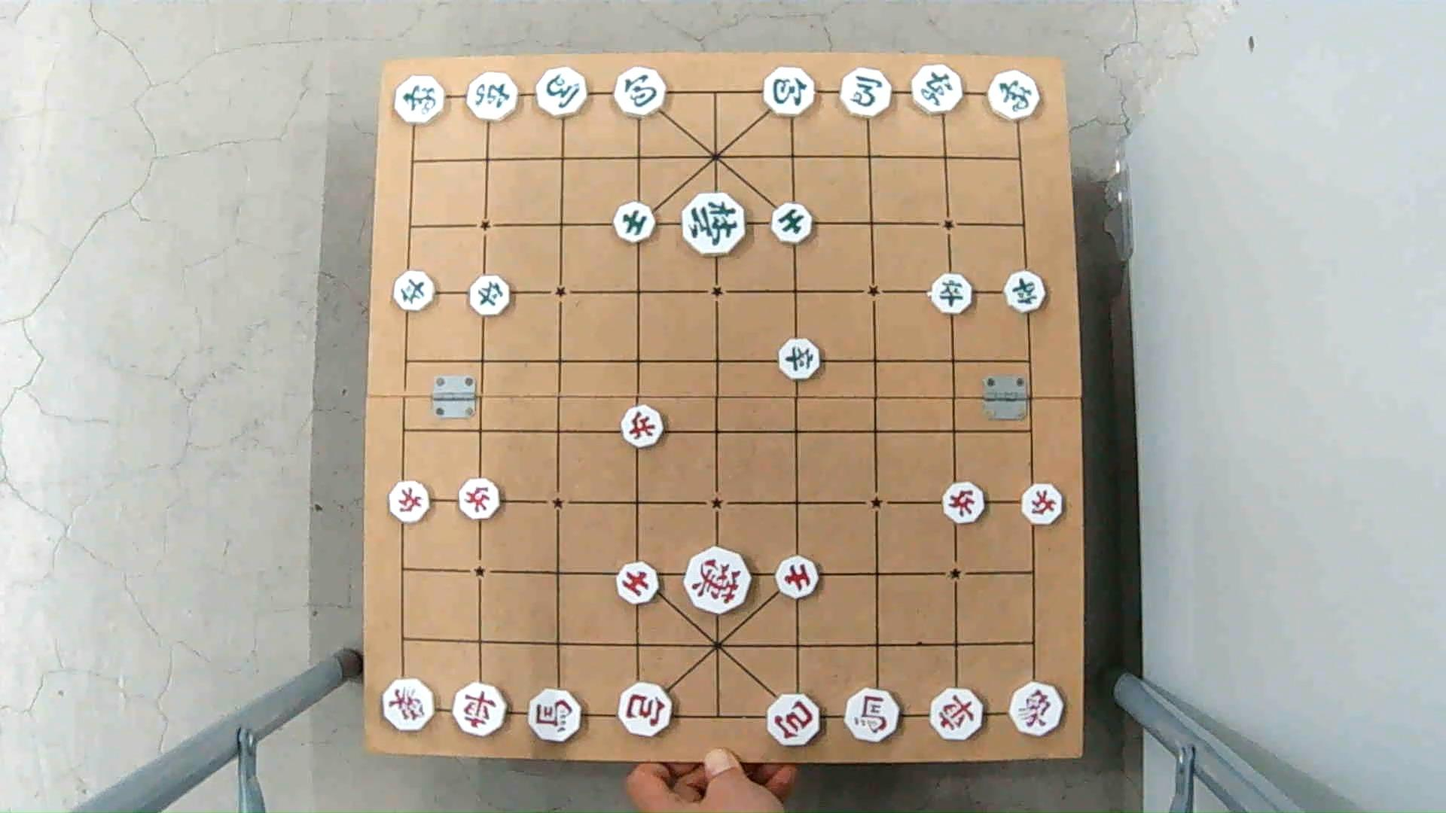cha_green: (905, 66, 962, 112), (466, 75, 523, 120)
cha_red: (450, 687, 511, 736), (929, 692, 990, 740)
jol_green: (930, 275, 977, 312), (469, 279, 517, 315), (777, 343, 825, 379), (998, 273, 1044, 310), (392, 273, 438, 309)
jol_red: (387, 483, 436, 521), (452, 481, 503, 517), (941, 483, 991, 519), (1014, 484, 1063, 520), (618, 407, 666, 443)
ma_green: (529, 72, 590, 116), (840, 70, 898, 114)
ma_red: (524, 693, 585, 741), (842, 692, 903, 740)
po_green: (759, 68, 819, 112), (611, 71, 669, 115)
po_red: (614, 687, 676, 735), (767, 697, 828, 744)
sa_green: (769, 204, 816, 240), (615, 202, 656, 242)
sa_red: (615, 562, 667, 600), (775, 554, 820, 597)
sang_green: (984, 70, 1040, 116), (392, 77, 447, 123)
sang_red: (1006, 686, 1068, 735), (377, 681, 437, 728)
wang_green: (680, 195, 749, 251)
wang_red: (684, 550, 755, 612)
